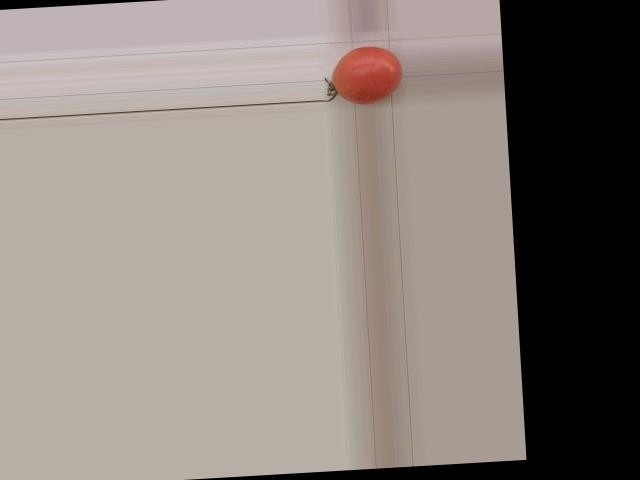tomato: (330, 44, 403, 106)
